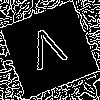V: (24, 25, 72, 80)
